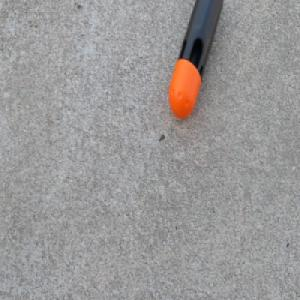PlasticPart: (167, 0, 224, 120)
